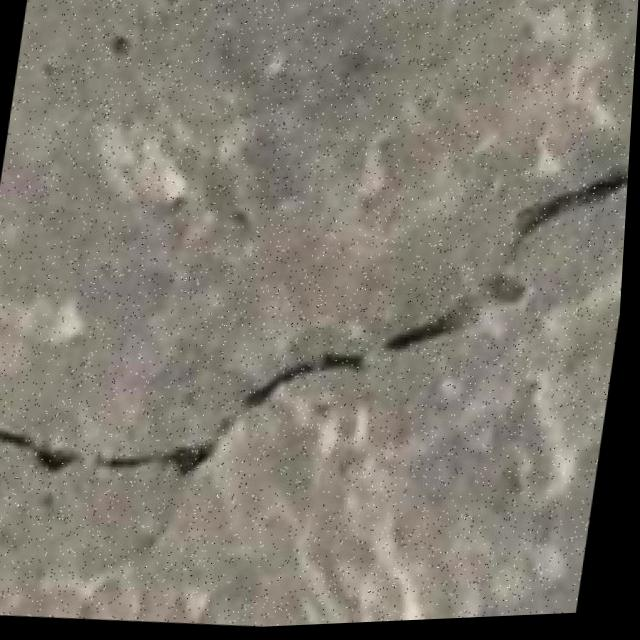Crack: (0, 104, 634, 521)
